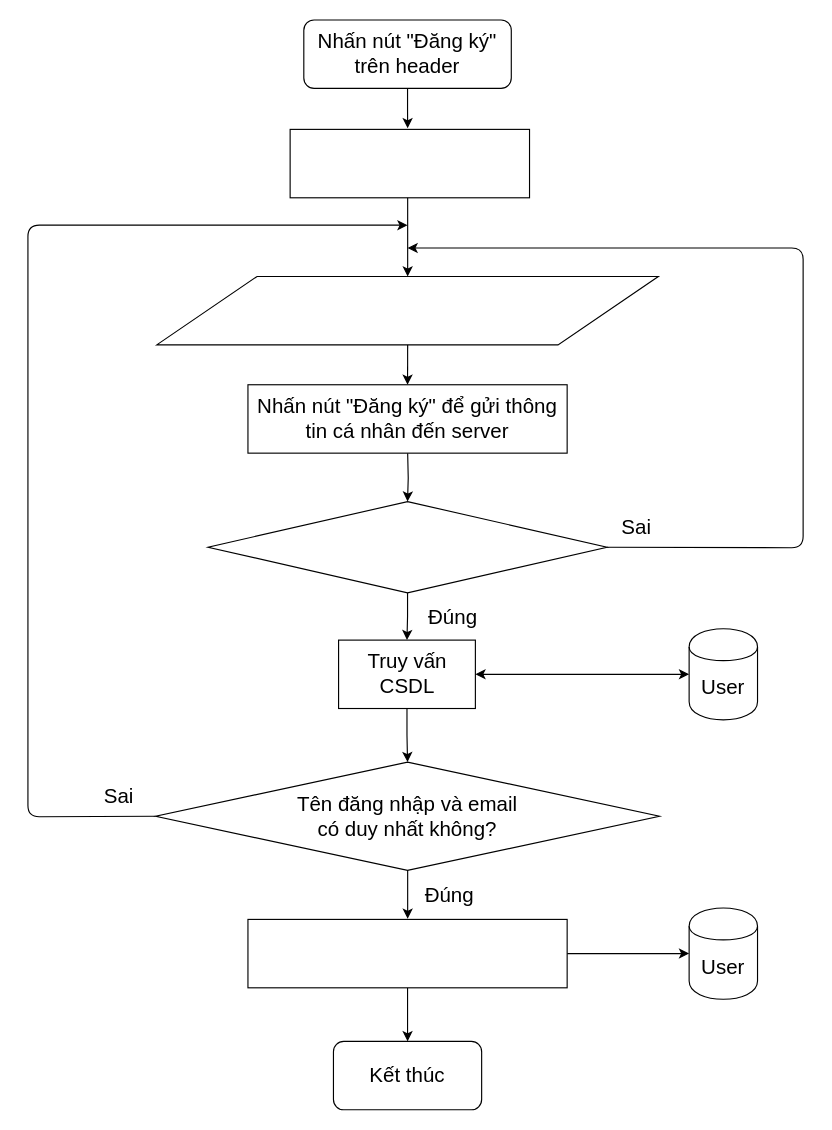
This 832x1130 diagram has some shape labels left out. The centre of each missing label's shape, as x and y in pixels:
"Có nhập đủ thông tin không?" goes at (x=407, y=546).
"Ghi thông tin cá nhân vào CSDL" goes at (x=407, y=953).
"Mở popup form nhập thông tin đăng ký" goes at (x=409, y=163).
"Nhập thông tin cá nhân bao gồm tên đăng nhập, tên, mật khẩu, email" goes at (x=407, y=310).
